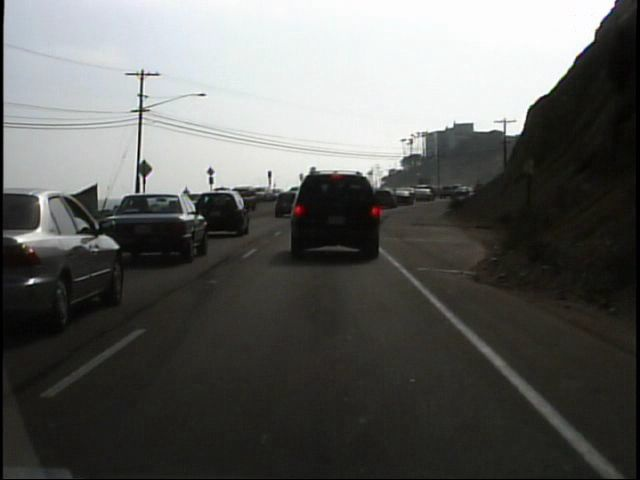person: (181, 183, 194, 210)
